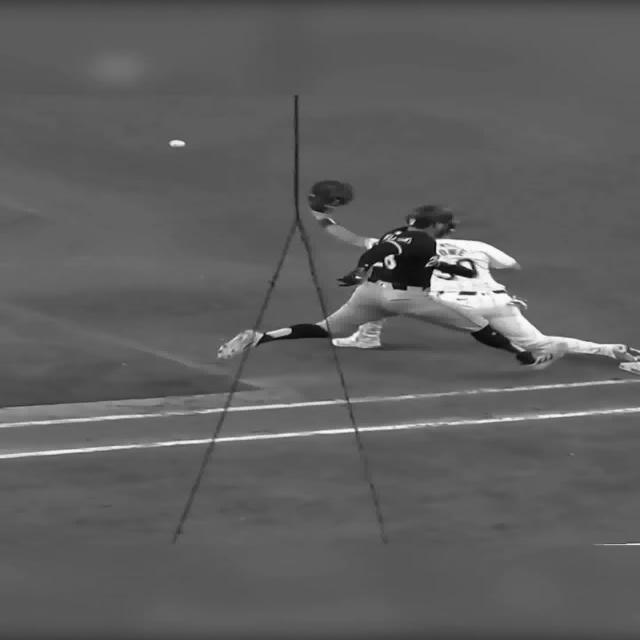baseball: (168, 140, 186, 148)
baseball_glove: (306, 180, 352, 212)
shoe: (516, 341, 568, 370), (216, 329, 264, 359), (331, 332, 381, 348), (614, 346, 640, 374), (610, 344, 640, 362), (617, 358, 639, 375)
